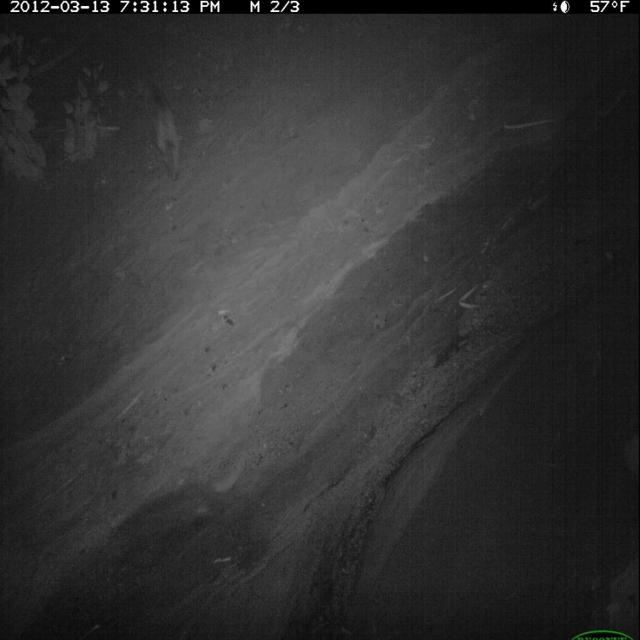bobcat: (129, 72, 190, 189)
